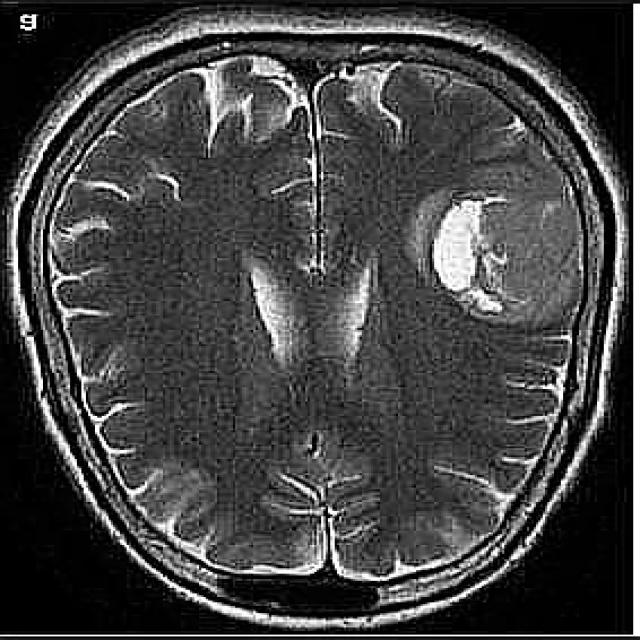Tumor-Cell: (433, 152, 602, 337)
